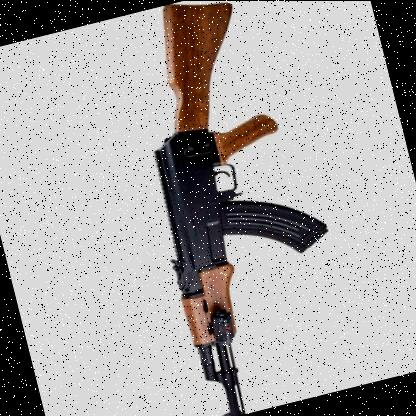rifle: (72, 0, 385, 416)
